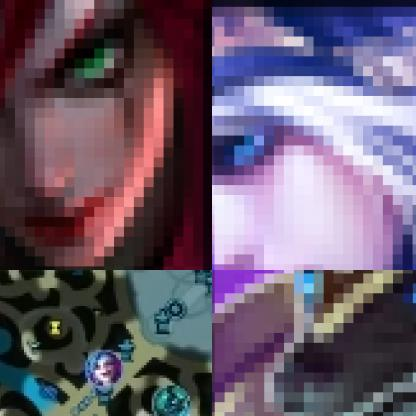Ashe: (212, 0, 415, 269)
Hecarim: (151, 382, 195, 415)
Jinx: (82, 348, 124, 388)
Katarina: (0, 0, 211, 269)
Nasus: (212, 270, 415, 415)
